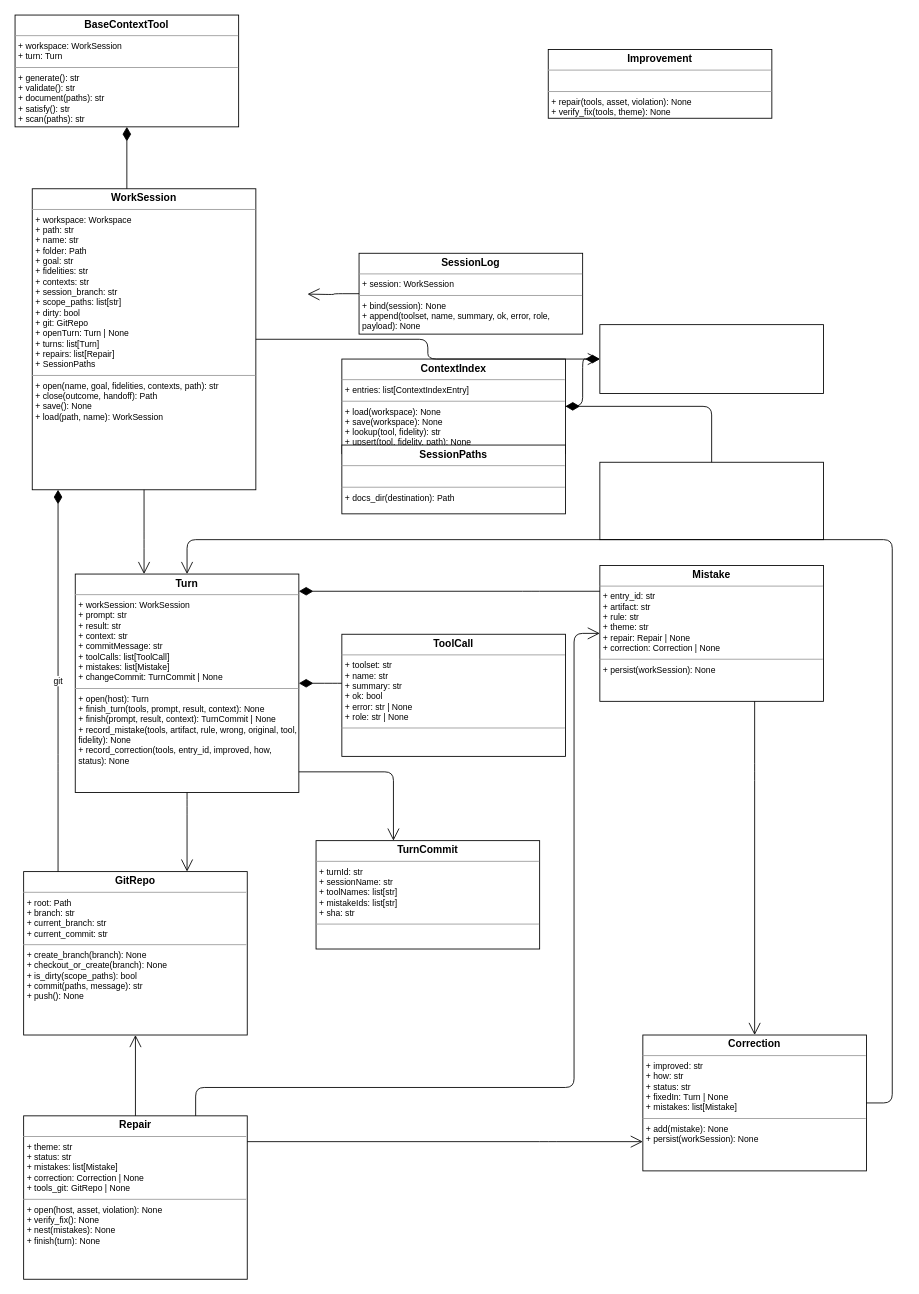
Some shapes in this 919 by 1294 pixel diagram are drawn without their labels. Each missing label, with the box of its shape:
ContextIndexEntry + tool: str + fidelity: str + path: str: (599, 461, 823, 540)
Workspace + path: str + contextIndex: ContextIndex: (599, 324, 823, 393)
